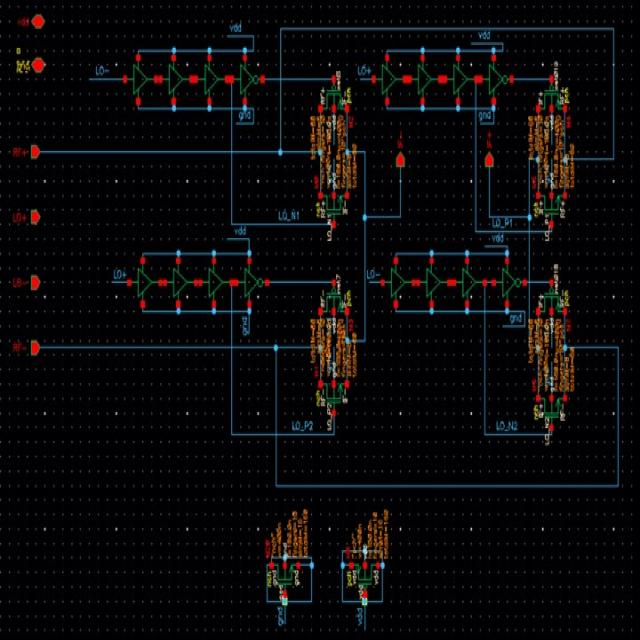ic: (120, 54, 157, 108), (193, 54, 230, 104), (381, 256, 416, 307), (163, 257, 198, 306), (452, 258, 487, 307), (371, 56, 406, 104), (416, 257, 451, 304), (128, 258, 162, 306), (408, 55, 442, 103), (159, 54, 192, 102), (199, 259, 231, 305), (444, 56, 476, 101)
inverter: (235, 257, 270, 309), (492, 257, 528, 306), (479, 56, 515, 101), (230, 56, 264, 102)
nmos: (316, 378, 351, 418), (536, 392, 569, 431), (268, 560, 302, 596), (534, 190, 568, 225), (317, 189, 349, 225)
pmos: (316, 73, 353, 114), (318, 279, 352, 320), (536, 277, 570, 316), (347, 560, 382, 597), (536, 76, 570, 114)
